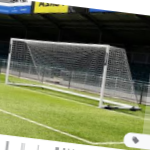goals: (2, 38, 141, 110)
